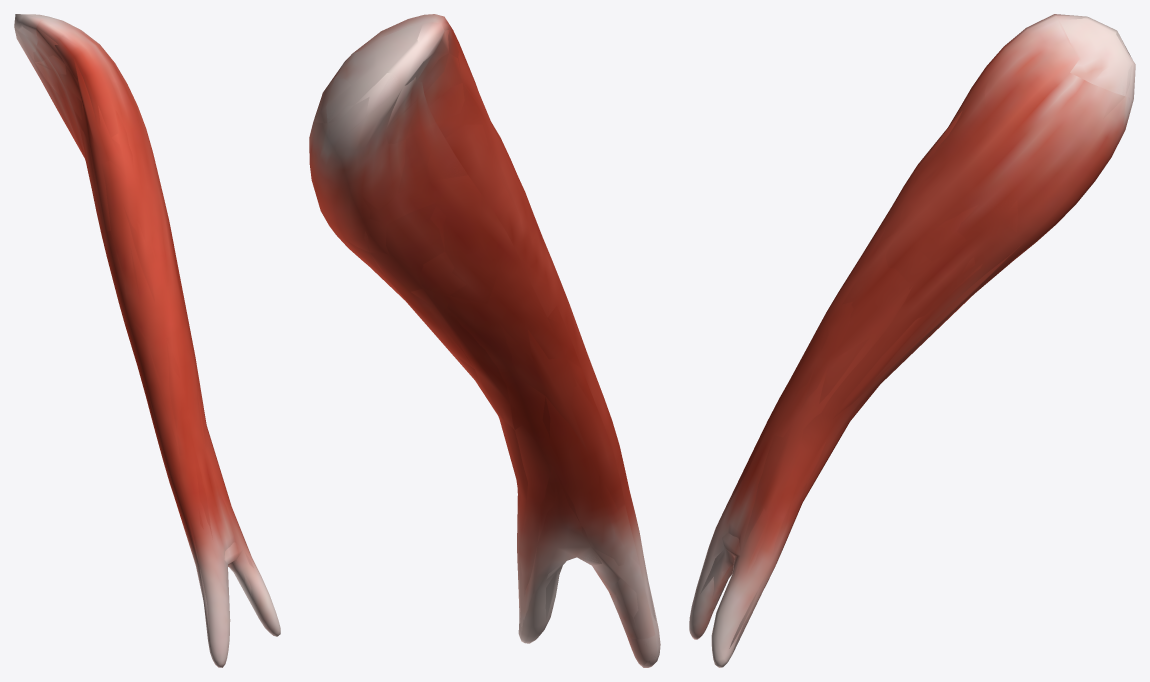
Rendered from L Supraspinatus.fbx.
3 views of the same model, side by side, from view 1: azimuth 30°, elevation 25°; view 2: azimuth 150°, elevation 25°; view 3: azimuth 270°, elevation 25° (orthographic). The views are drawn at different scales.
Visible parts, largest first — view 1: L Supraspinatus, L Supraspinatus low; view 2: L Supraspinatus, L Supraspinatus low; view 3: L Supraspinatus, L Supraspinatus low.
Boxes of the visible parts, box(x1,y1,x2,y2) form: L Supraspinatus: box(14, 14, 280, 667); L Supraspinatus low: box(14, 14, 266, 651); L Supraspinatus: box(309, 14, 660, 667); L Supraspinatus low: box(313, 15, 659, 665); L Supraspinatus: box(689, 14, 1135, 667); L Supraspinatus low: box(700, 14, 1132, 652).
Bounding box in the file's own units: 7.26 × 37.39 × 24.74.
